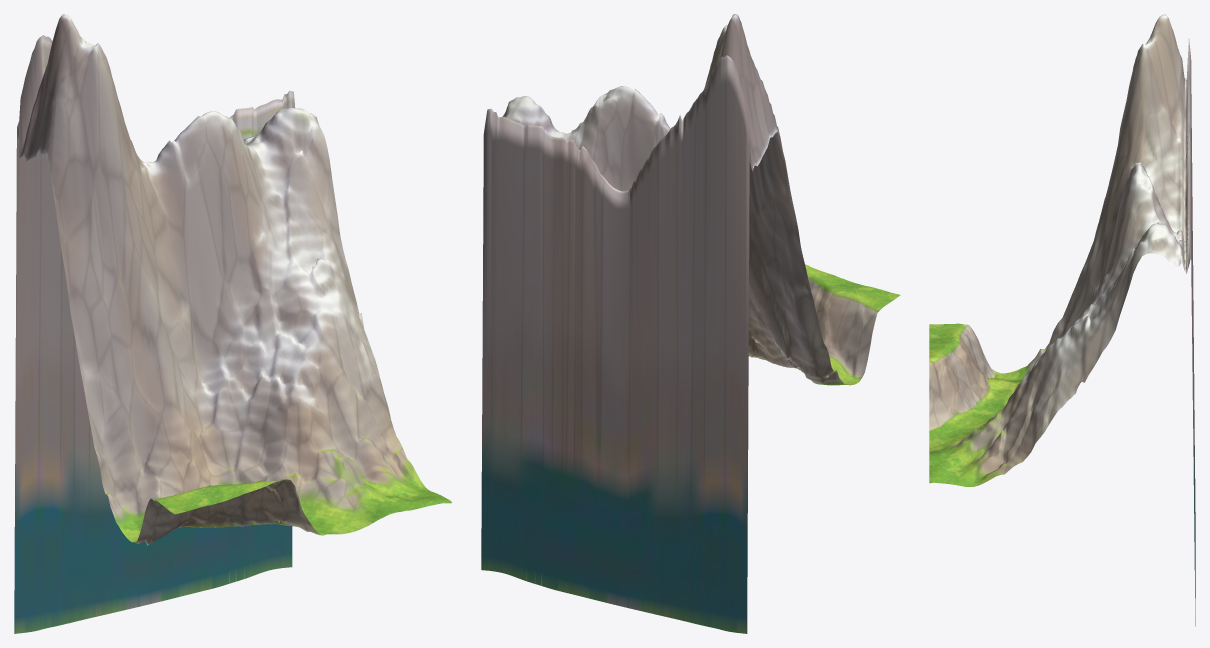
The picture shows the model from 3 angles, left to right: view 1: azimuth 30°, elevation 25°; view 2: azimuth 150°, elevation 25°; view 3: azimuth 270°, elevation 25°; orthographic projection. The views are drawn at different scales.
Parts seen in each view (by area): view 1: t128_192; view 2: t128_192; view 3: t128_192.
Boxes of the visible parts, left/top/right/bottom form: t128_192: left=14, top=14, right=451, bottom=633; t128_192: left=481, top=14, right=900, bottom=633; t128_192: left=929, top=14, right=1195, bottom=626.
Size of the model in its own units: 64 by 138 by 64.
1 material, 1 textured.
